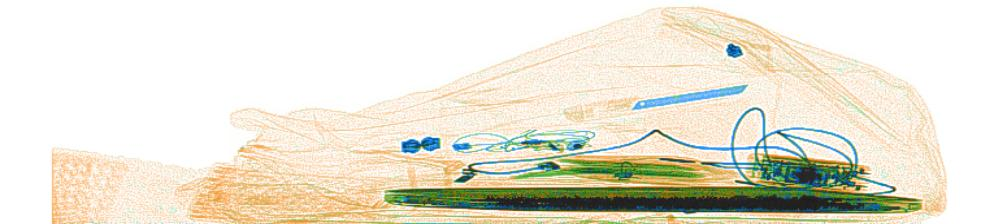knife: (565, 83, 748, 124)
